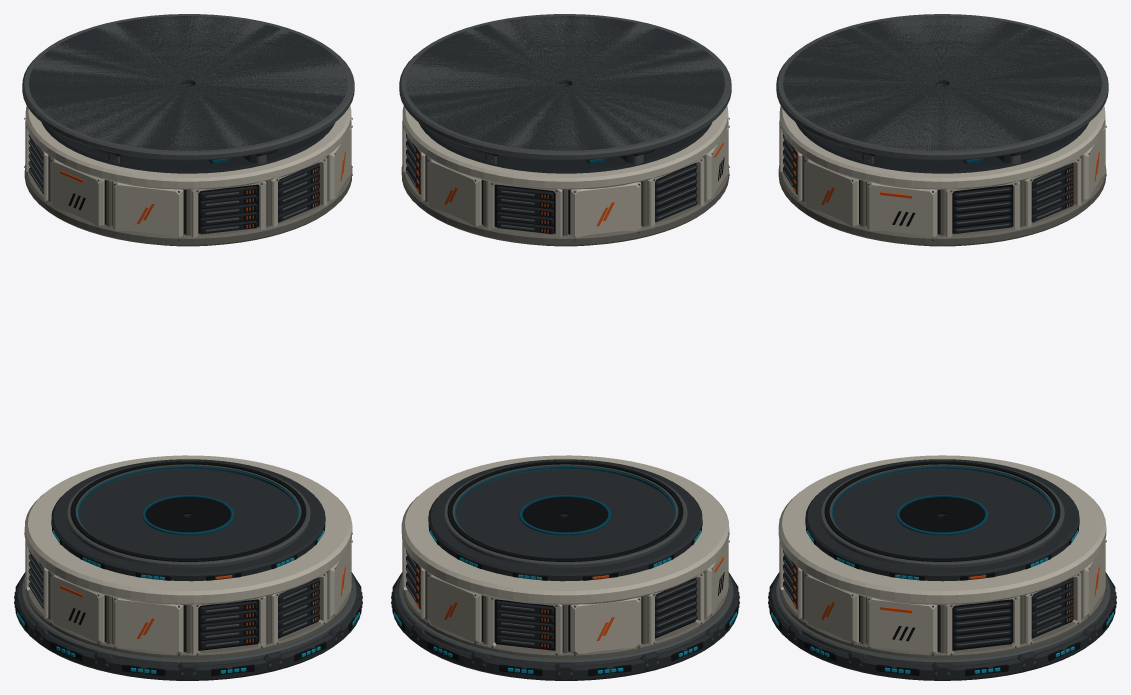
File: core_structure.obj
3 views of the same model, side by side, from view 1: azimuth 30°, elevation 25°; view 2: azimuth 150°, elevation 25°; view 3: azimuth 270°, elevation 25° (orthographic).
Parts seen in each view (by area): view 1: core_structure_Mount_Graphite, core_structure_Armor_Porcelain, core_structure_Steel_Edge, core_structure_Drawer_Satin, core_structure_Armor_Shadow, core_structure_Well_Black, core_structure_Seal_Rubber, core_structure_Power_Cyan_Dim, core_structure_Power_Cyan, core_structure_Panel_Orange; view 2: core_structure_Mount_Graphite, core_structure_Armor_Porcelain, core_structure_Steel_Edge, core_structure_Drawer_Satin, core_structure_Armor_Shadow, core_structure_Well_Black, core_structure_Seal_Rubber, core_structure_Power_Cyan_Dim, core_structure_Power_Cyan, core_structure_Panel_Orange; view 3: core_structure_Mount_Graphite, core_structure_Armor_Porcelain, core_structure_Steel_Edge, core_structure_Drawer_Satin, core_structure_Armor_Shadow, core_structure_Well_Black, core_structure_Seal_Rubber, core_structure_Power_Cyan_Dim, core_structure_Power_Cyan, core_structure_Panel_Orange.
Boxes of the visible parts, bbox=[...] form: core_structure_Mount_Graphite: bbox=[14, 16, 362, 680]; core_structure_Armor_Porcelain: bbox=[24, 105, 352, 655]; core_structure_Steel_Edge: bbox=[14, 14, 362, 674]; core_structure_Drawer_Satin: bbox=[28, 122, 335, 648]; core_structure_Armor_Shadow: bbox=[24, 155, 352, 658]; core_structure_Well_Black: bbox=[15, 163, 361, 676]; core_structure_Seal_Rubber: bbox=[70, 461, 306, 561]; core_structure_Power_Cyan_Dim: bbox=[77, 158, 299, 535]; core_structure_Power_Cyan: bbox=[17, 530, 359, 673]; core_structure_Panel_Orange: bbox=[60, 152, 345, 642]; core_structure_Mount_Graphite: bbox=[391, 16, 739, 680]; core_structure_Armor_Porcelain: bbox=[401, 105, 729, 655]; core_structure_Steel_Edge: bbox=[391, 14, 739, 674]; core_structure_Drawer_Satin: bbox=[406, 122, 712, 648]; core_structure_Armor_Shadow: bbox=[401, 155, 729, 658]; core_structure_Well_Black: bbox=[392, 151, 738, 676]; core_structure_Seal_Rubber: bbox=[447, 461, 683, 561]; core_structure_Power_Cyan_Dim: bbox=[454, 158, 676, 535]; core_structure_Power_Cyan: bbox=[394, 530, 736, 673]; core_structure_Panel_Orange: bbox=[444, 142, 723, 640]; core_structure_Mount_Graphite: bbox=[768, 16, 1116, 680]; core_structure_Armor_Porcelain: bbox=[778, 105, 1106, 655]; core_structure_Steel_Edge: bbox=[768, 14, 1116, 674]; core_structure_Drawer_Satin: bbox=[783, 122, 1089, 648]; core_structure_Armor_Shadow: bbox=[778, 155, 1106, 658]; core_structure_Well_Black: bbox=[769, 151, 1115, 675]; core_structure_Seal_Rubber: bbox=[824, 461, 1060, 561]; core_structure_Power_Cyan_Dim: bbox=[831, 158, 1053, 535]; core_structure_Power_Cyan: bbox=[771, 530, 1113, 673]; core_structure_Panel_Orange: bbox=[793, 152, 1099, 619].
Bounding box in the file's own units: 3.85 × 6.4 × 3.85.
